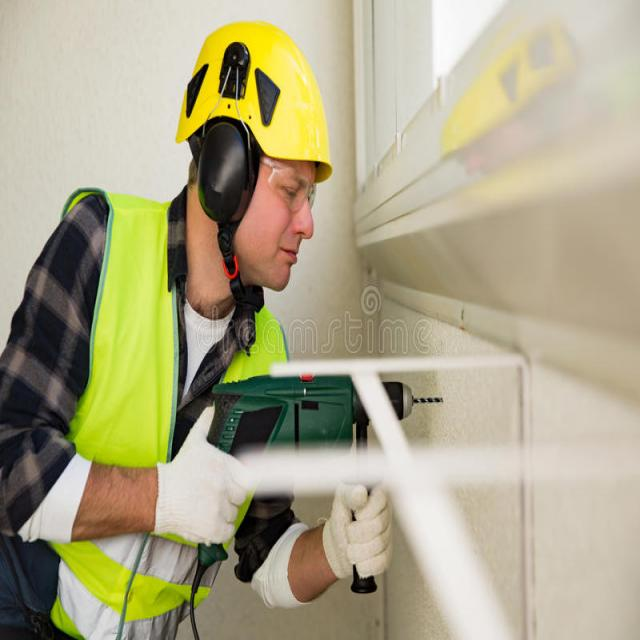Reflective-Jacket: (44, 188, 272, 636)
Safety-Helmet: (173, 18, 334, 181)
